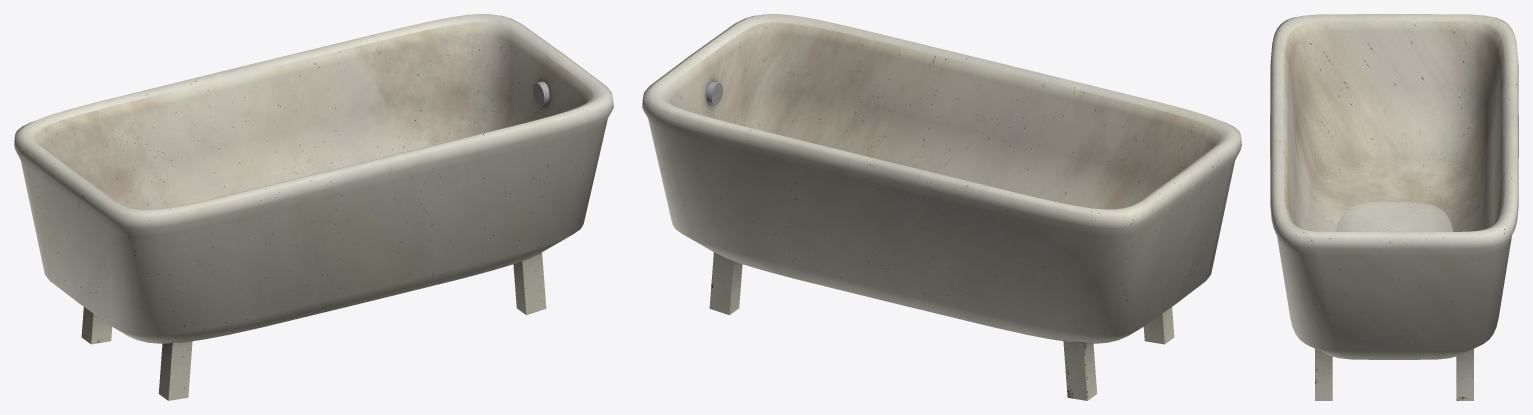
Rendered from bath_cast_web.glb.
3 views of the same model, side by side, from view 1: azimuth 30°, elevation 25°; view 2: azimuth 150°, elevation 25°; view 3: azimuth 270°, elevation 25° (orthographic). The views are drawn at different scales.
Parts seen in each view (by area): view 1: BathCast_Body; view 2: BathCast_Body; view 3: BathCast_Body.
Part boxes in pixels (x1=…): BathCast_Body: x1=14, y1=14, x2=613, y2=400; BathCast_Body: x1=642, y1=14, x2=1241, y2=400; BathCast_Body: x1=1270, y1=14, x2=1518, y2=400.
Bounding box in the file's own units: 1.5 × 0.6084 × 0.704.
2 materials, 2 textured.
